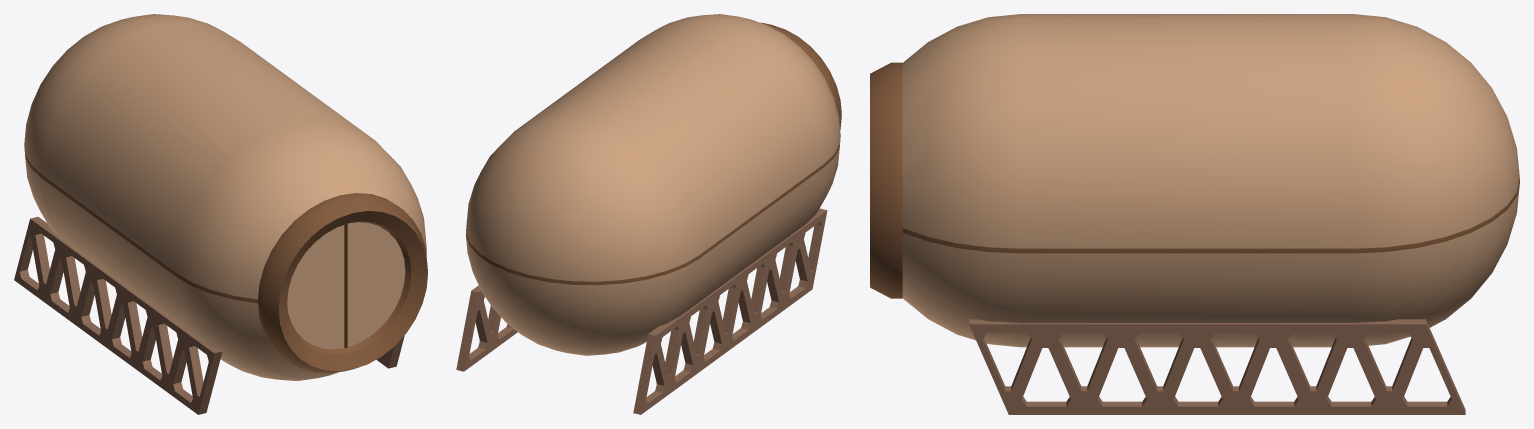
File: quaternius-ultimate-space-house-long-transformed.glb
The picture shows the model from 3 angles, left to right: view 1: azimuth 30°, elevation 25°; view 2: azimuth 150°, elevation 25°; view 3: azimuth 270°, elevation 25°; orthographic projection. The views are drawn at different scales.
Visible parts, largest first — view 1: House_Long; view 2: House_Long; view 3: House_Long.
Part boxes in pixels (x1,y1,x2,y2): House_Long: [14, 14, 427, 414]; House_Long: [456, 14, 841, 414]; House_Long: [870, 14, 1519, 414].
Bounding box in the file's own units: 3.99 × 4.31 × 7.79.
1 material, 1 textured.
